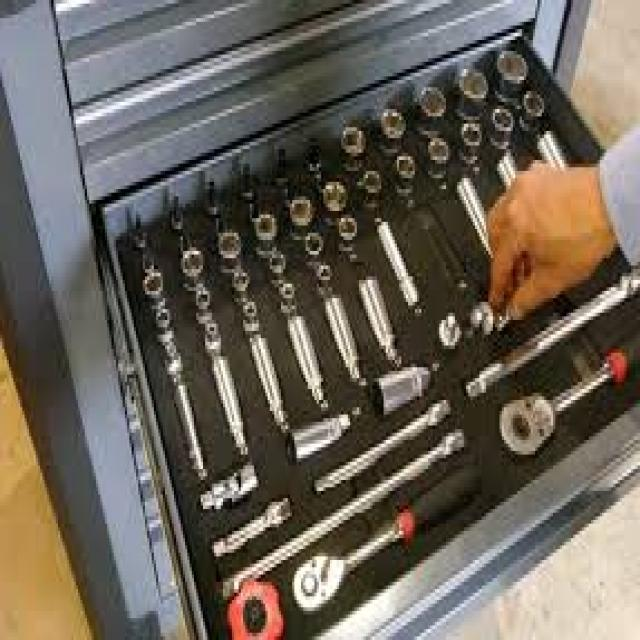tool_box: (2, 1, 640, 640)
